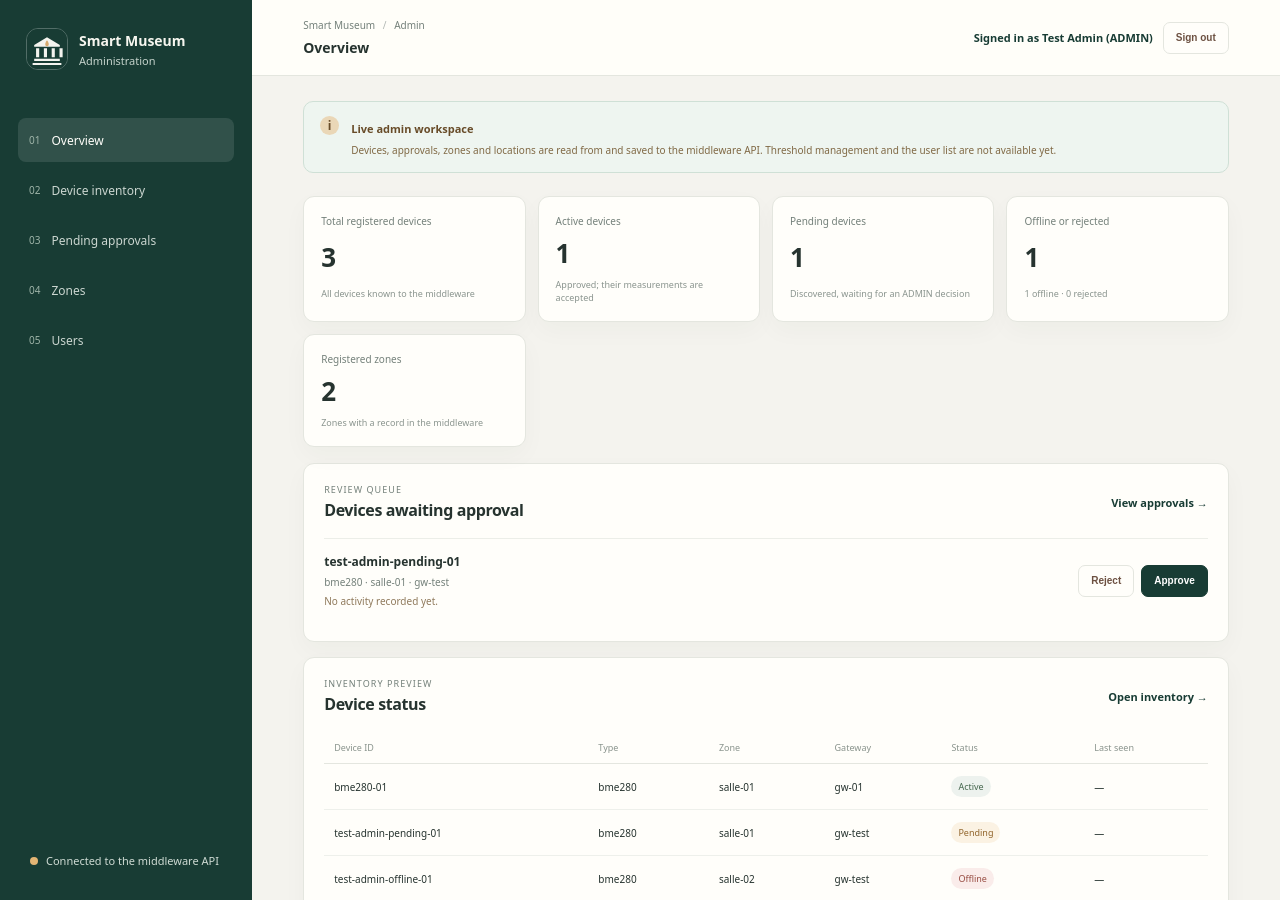
Admin API error states › reports a timeout during an action without leaving the page
This screenshot has width=1280, height=900.
Expected: the text "Total registered devices" is shown, top-left (321, 214), bottom-right (432, 228)
Click the link "03 Pending approvals". click: (93, 240)
box: top-left (29, 232), bottom-right (156, 248)
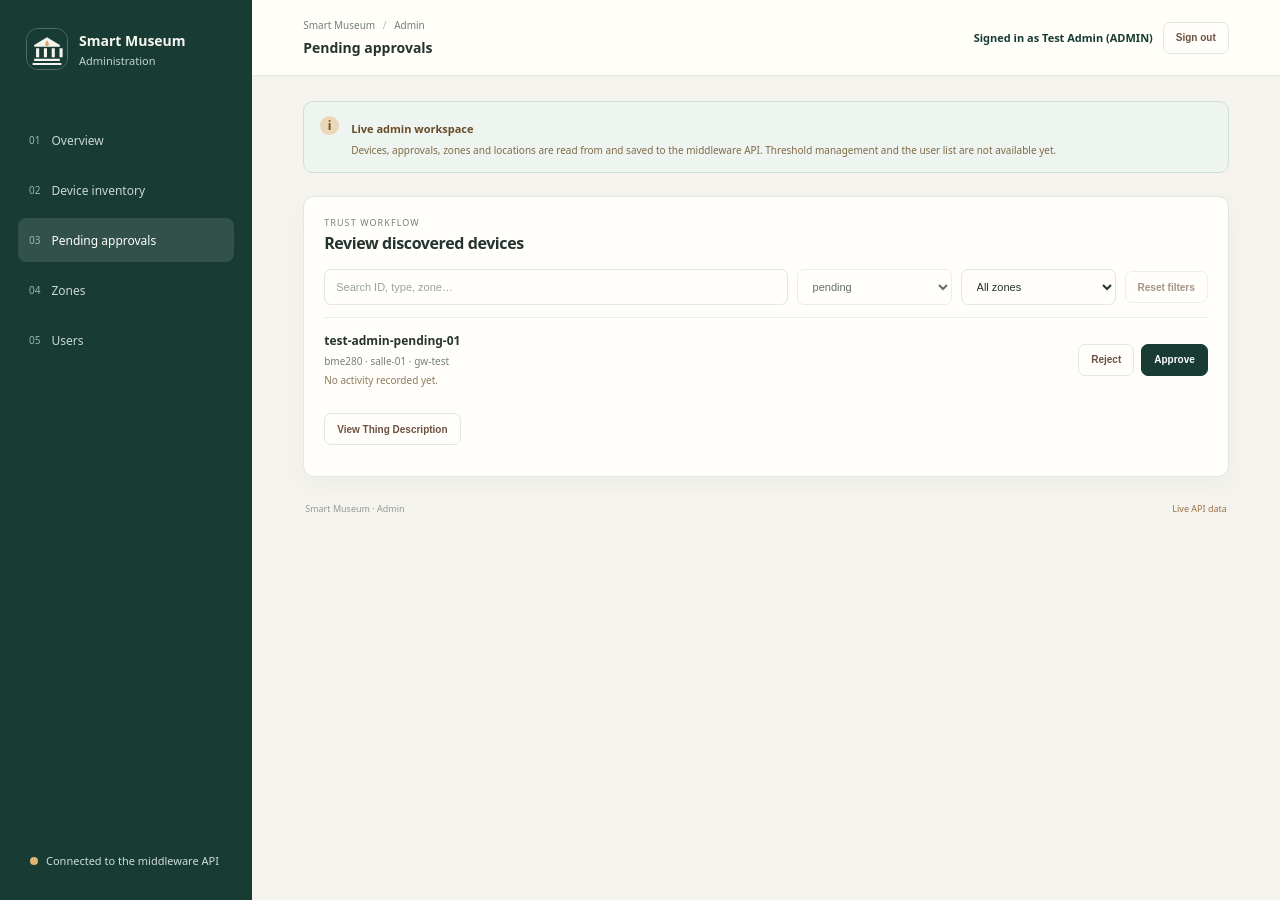
Expected: the link "03 Pending approvals" is marked as current, top-left (18, 218), bottom-right (234, 262)
Click the button "Approve". click: (1175, 360)
box: top-left (1141, 344), bottom-right (1208, 376)
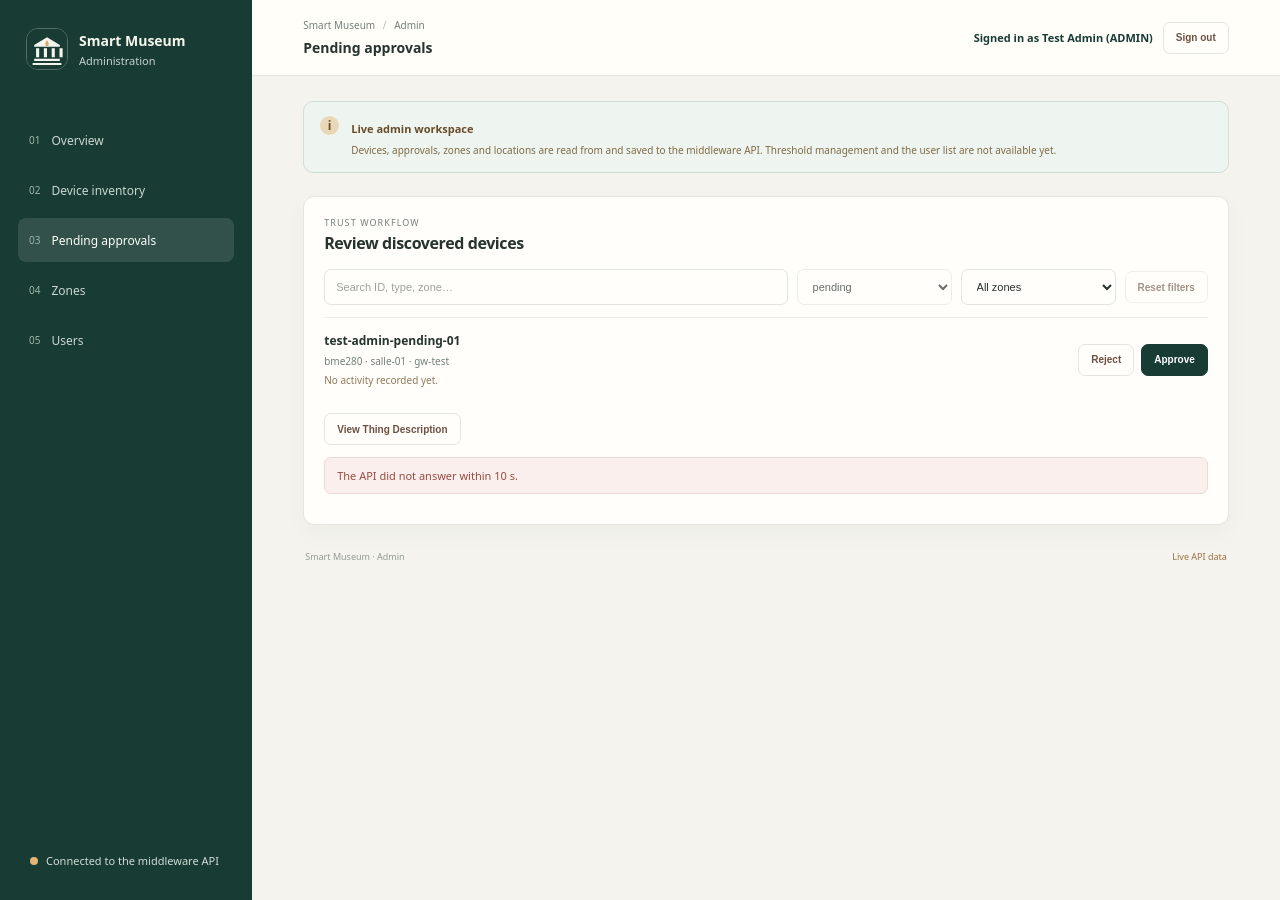
Expected: the message reads "The API did not answer within 10 s.", top-left (337, 468), bottom-right (518, 483)
